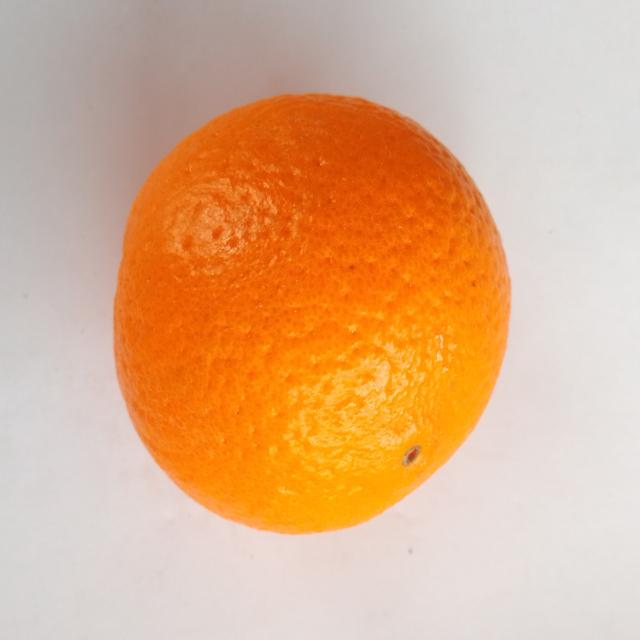orange: (115, 95, 509, 533)
